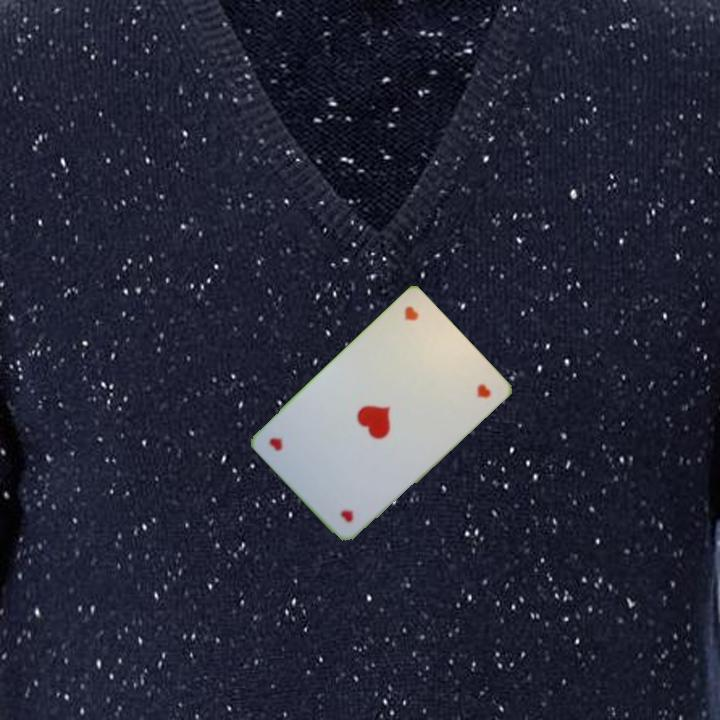h_a.png: (372, 297, 458, 383), (303, 447, 388, 533)
